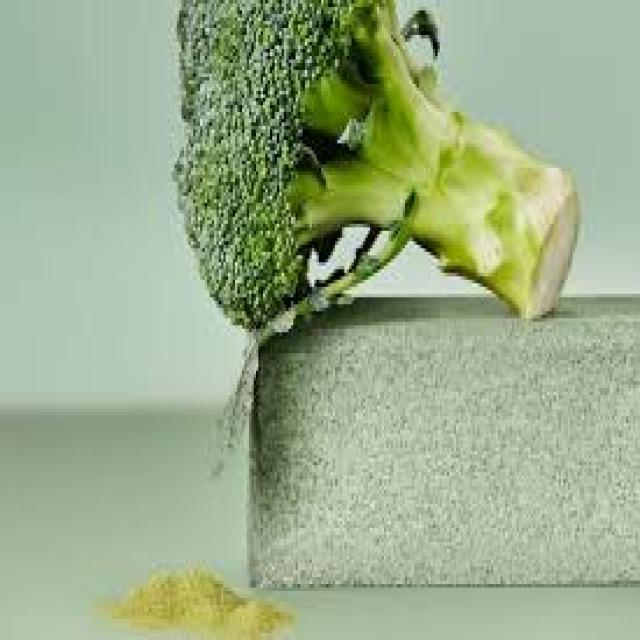Organik: (143, 0, 605, 491)
